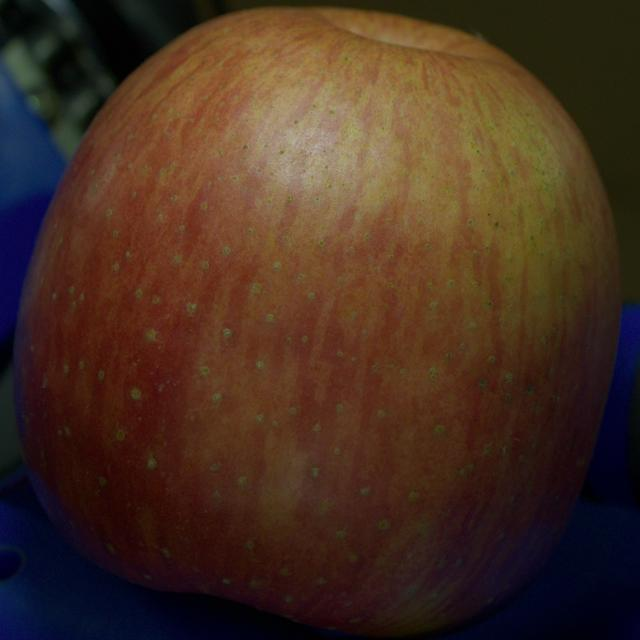apple: (13, 8, 620, 636)
